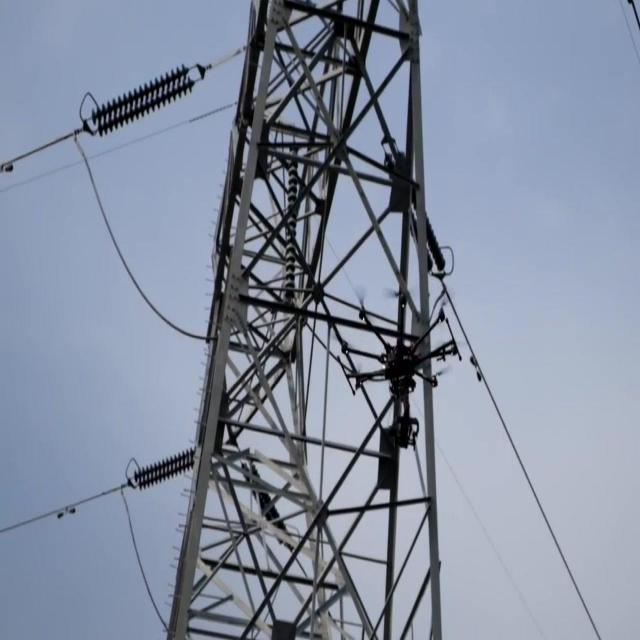UAV: (336, 293, 462, 451)
